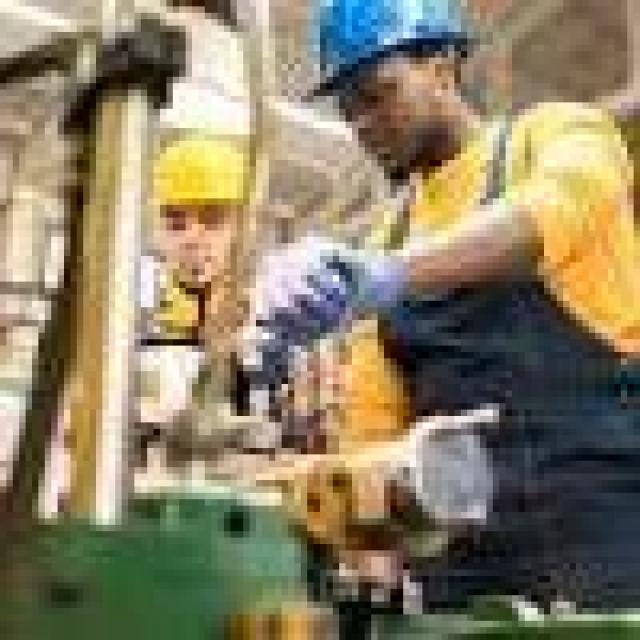Safety-Helmet: (282, 0, 492, 109), (136, 120, 278, 230)
